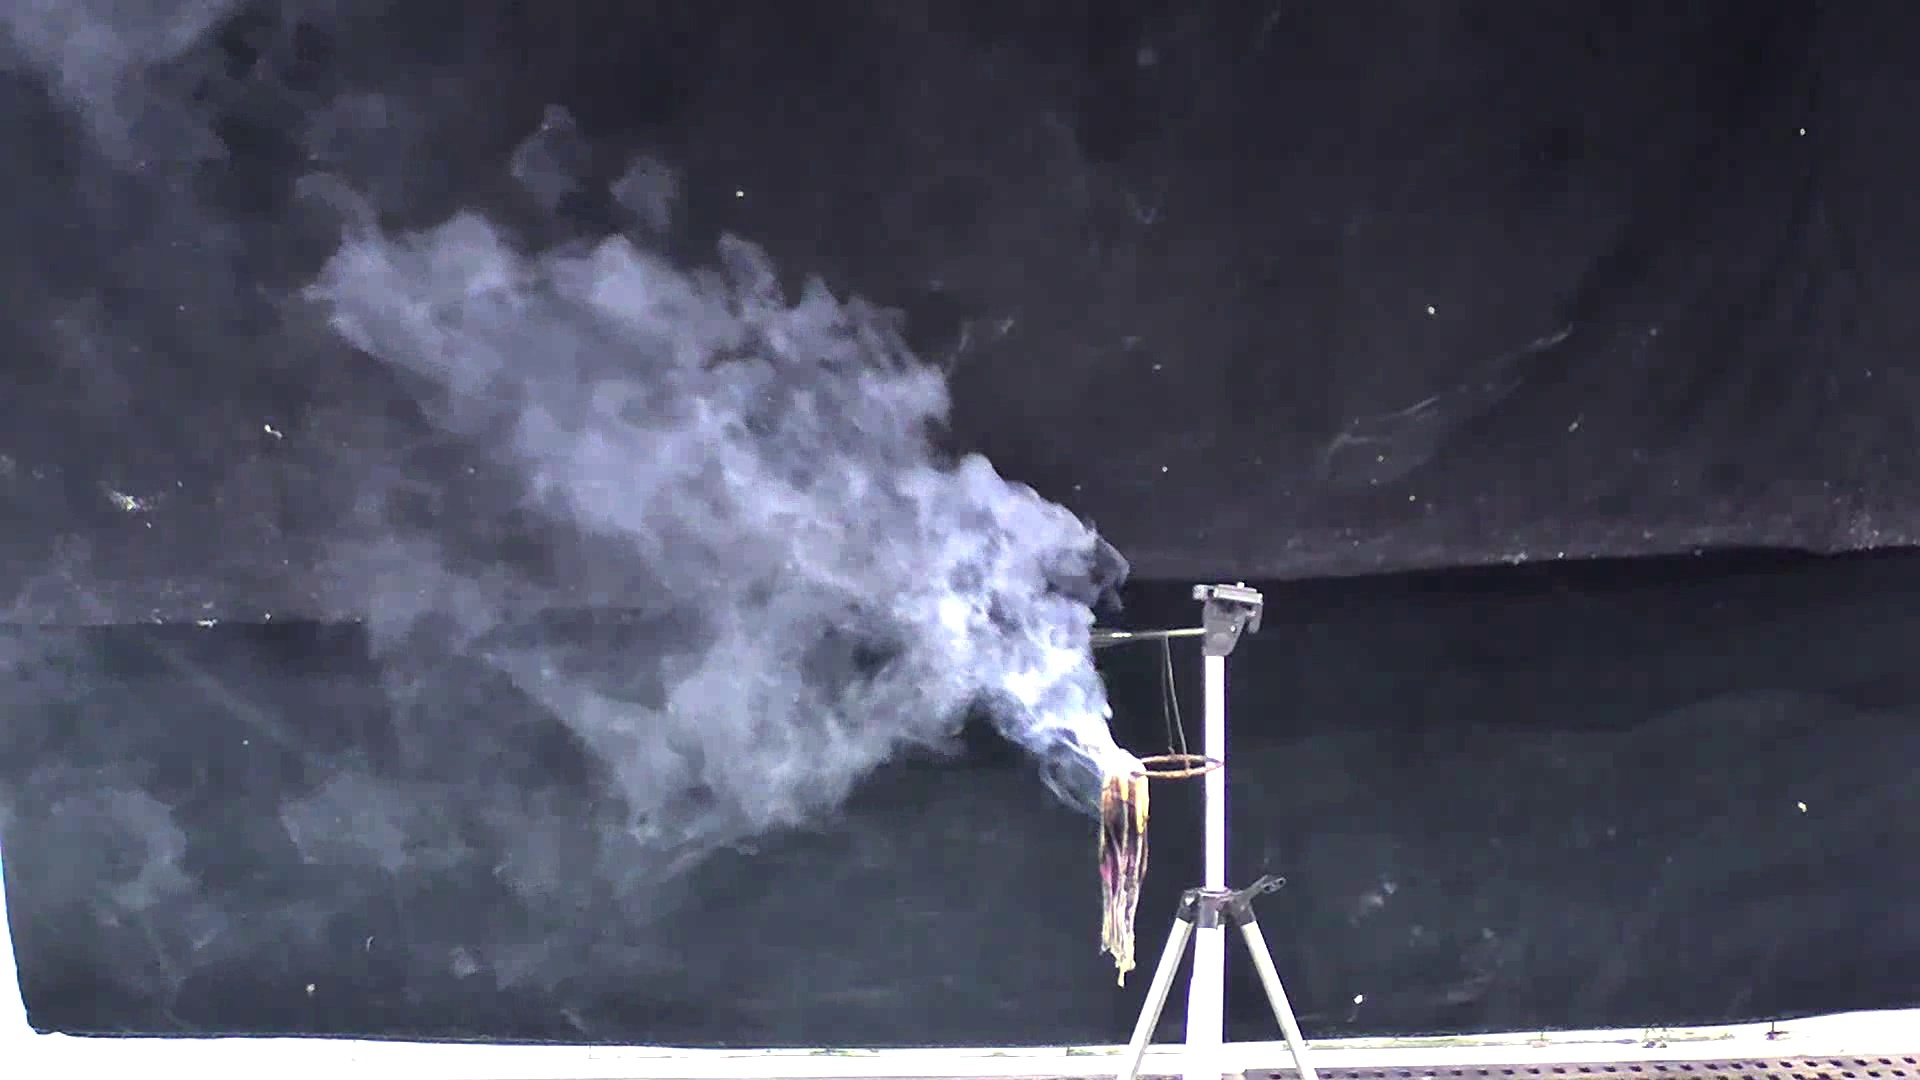smoke: (295, 120, 1160, 858)
